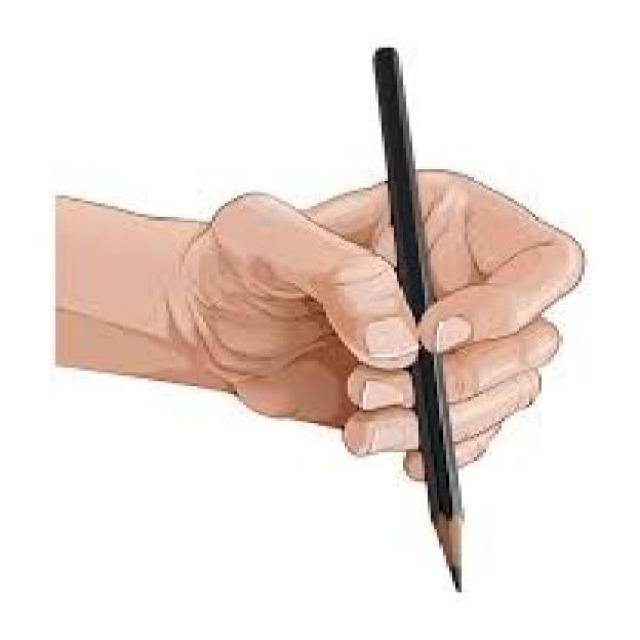pencil: (422, 482, 471, 596)
